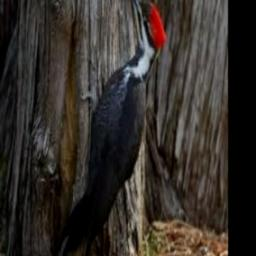Woodpecker: (55, 0, 168, 256)
